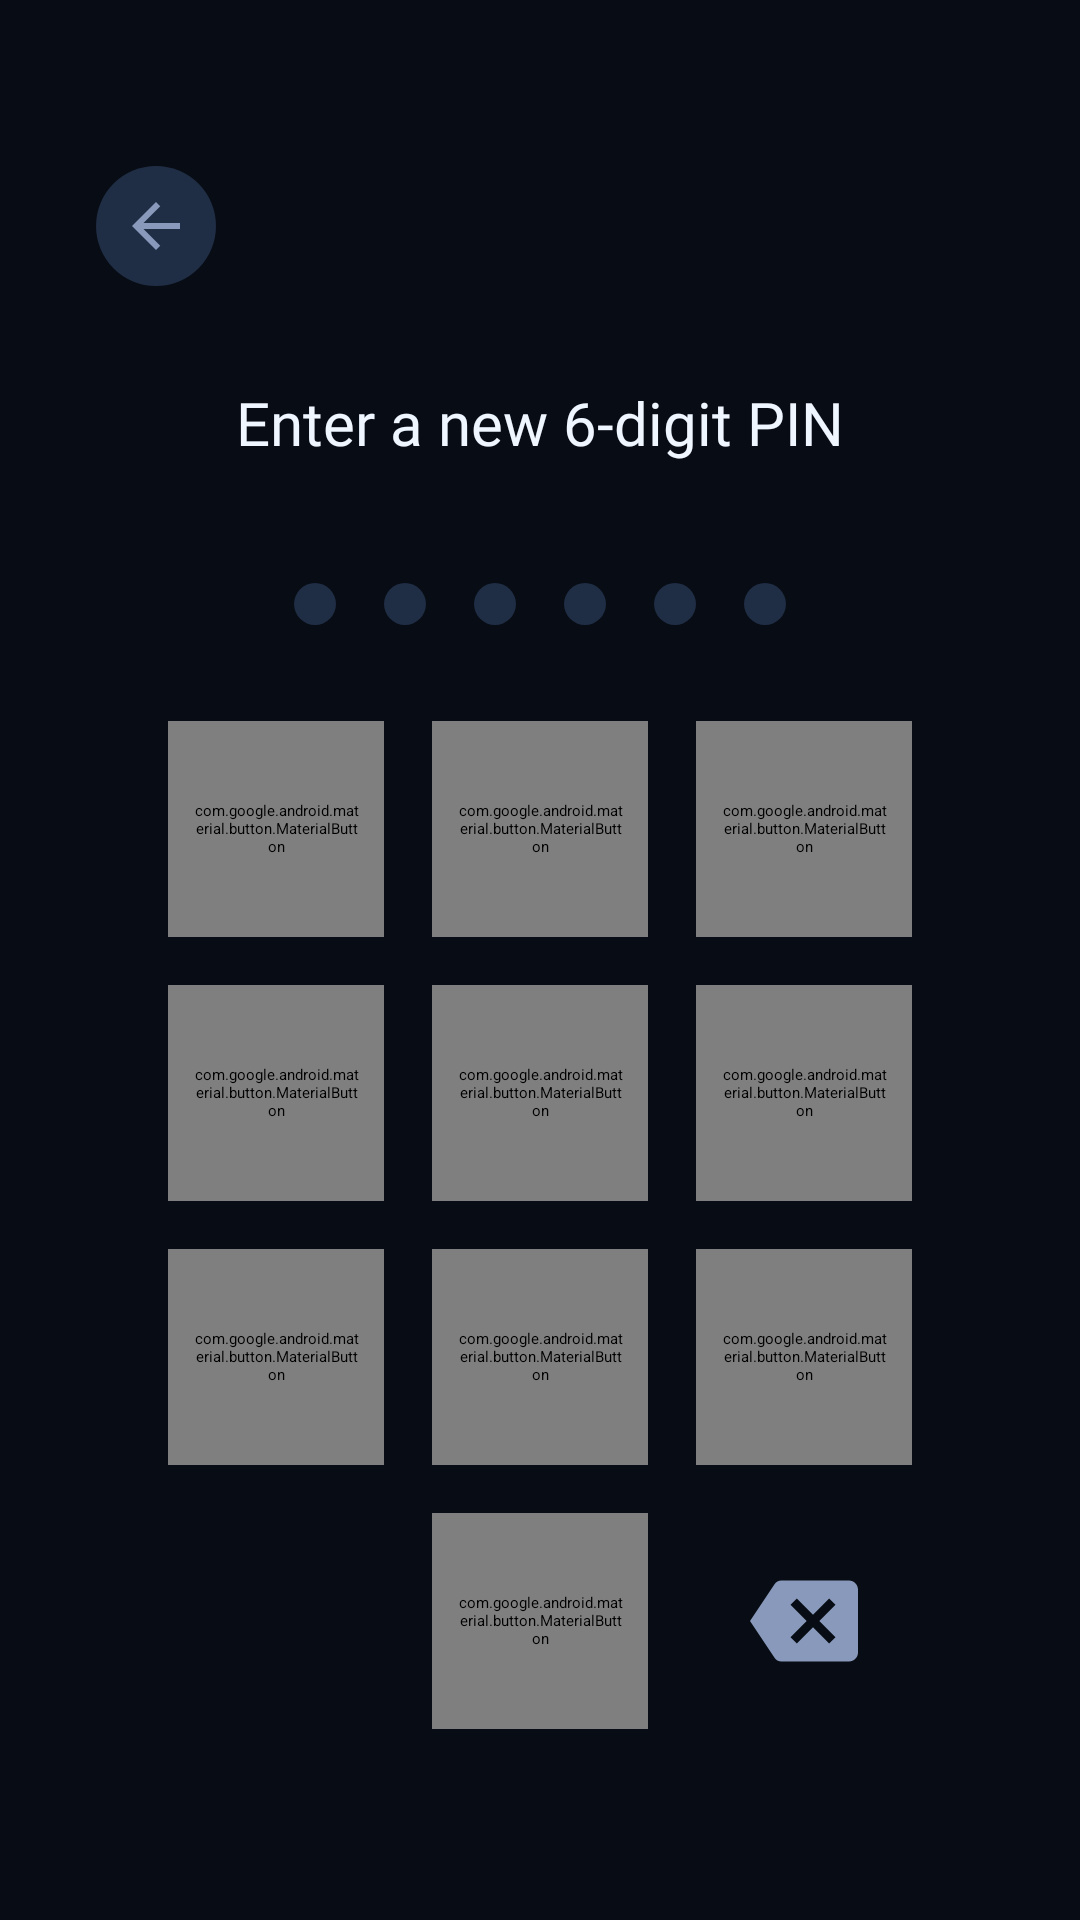

Where icons sit on this 1080 × 1920 app screen, as (x1, y1, x2, y2):
Back: (96, 166, 216, 286)
Delete: (750, 1580, 858, 1662)
